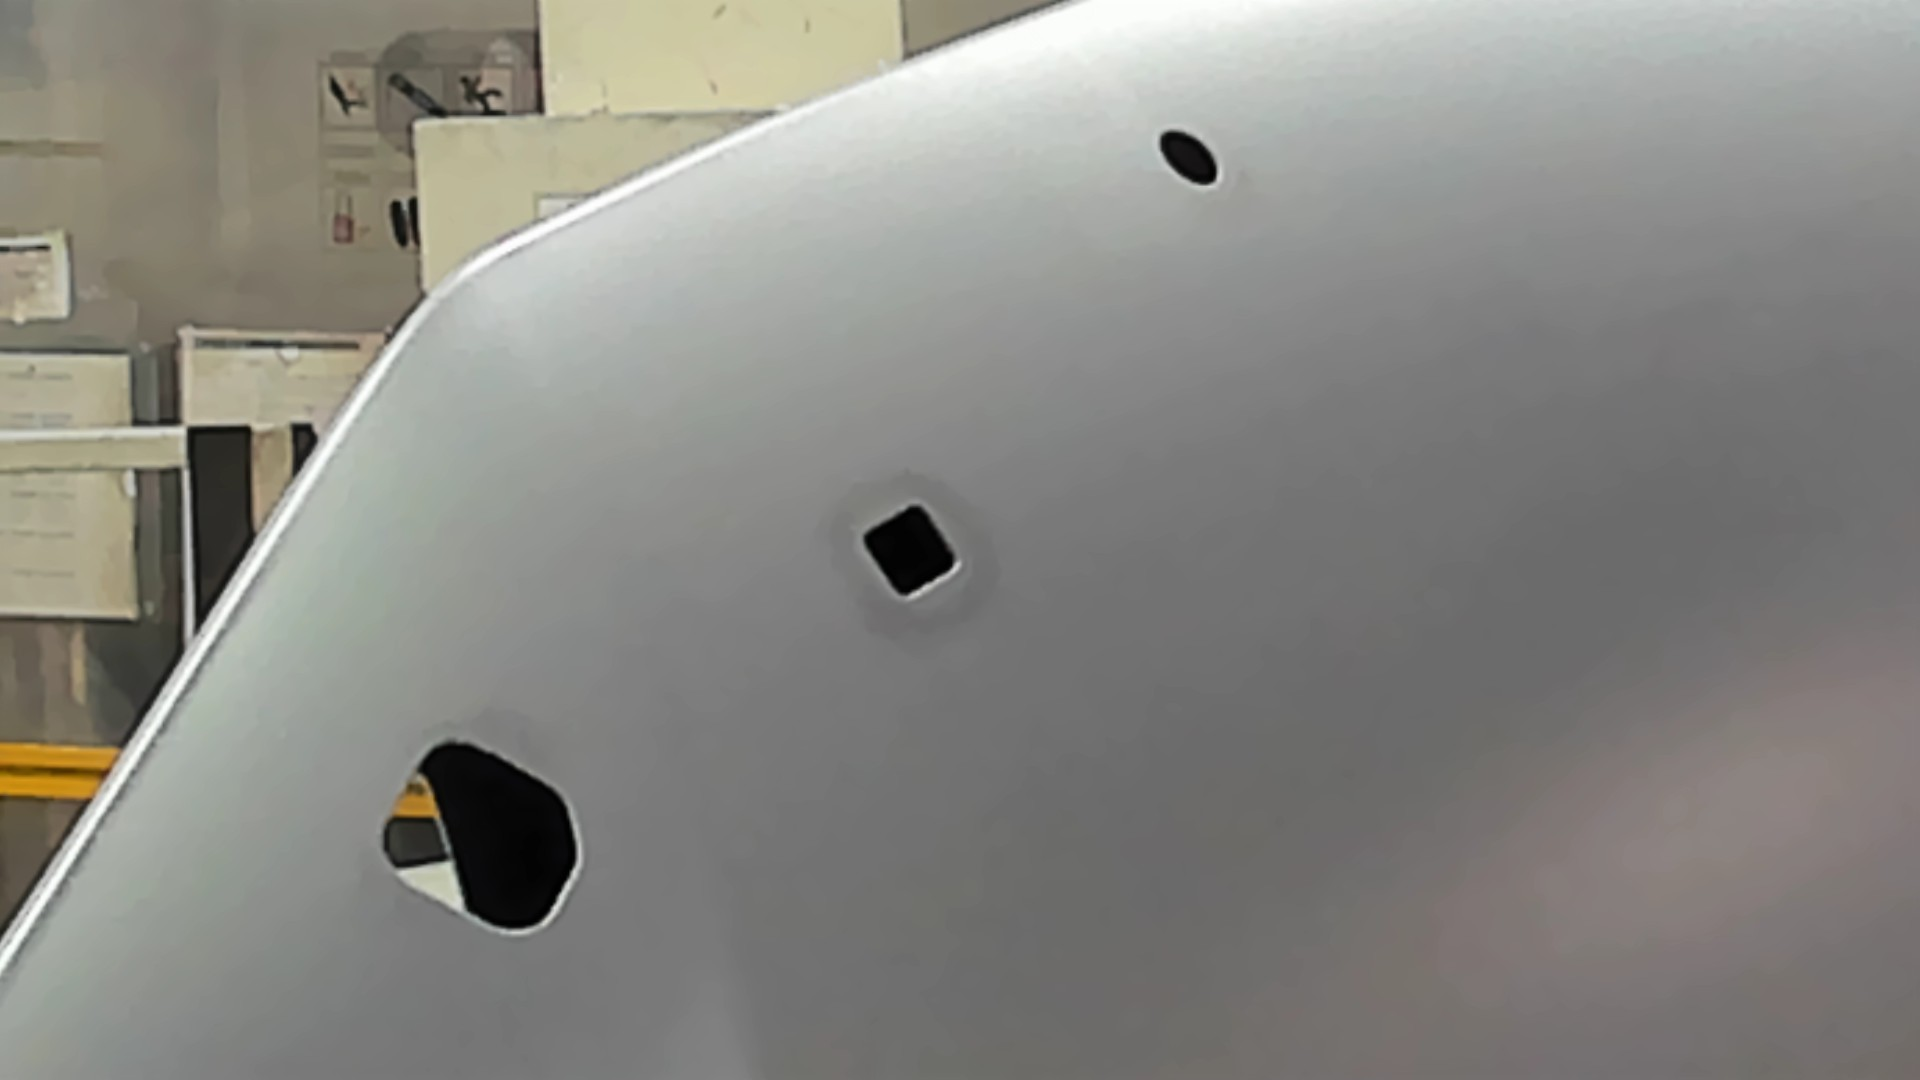chico: (1156, 127, 1222, 189)
grande: (371, 733, 587, 940)
mediano: (856, 500, 967, 608)
